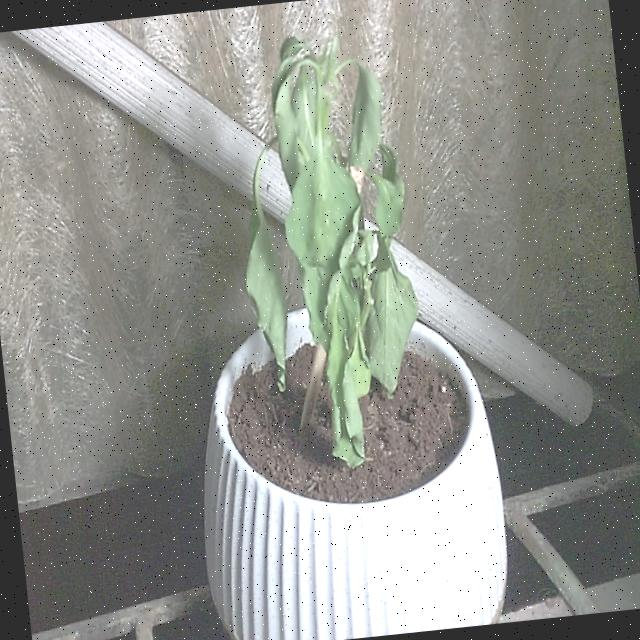Leaf: (275, 120, 376, 350)
